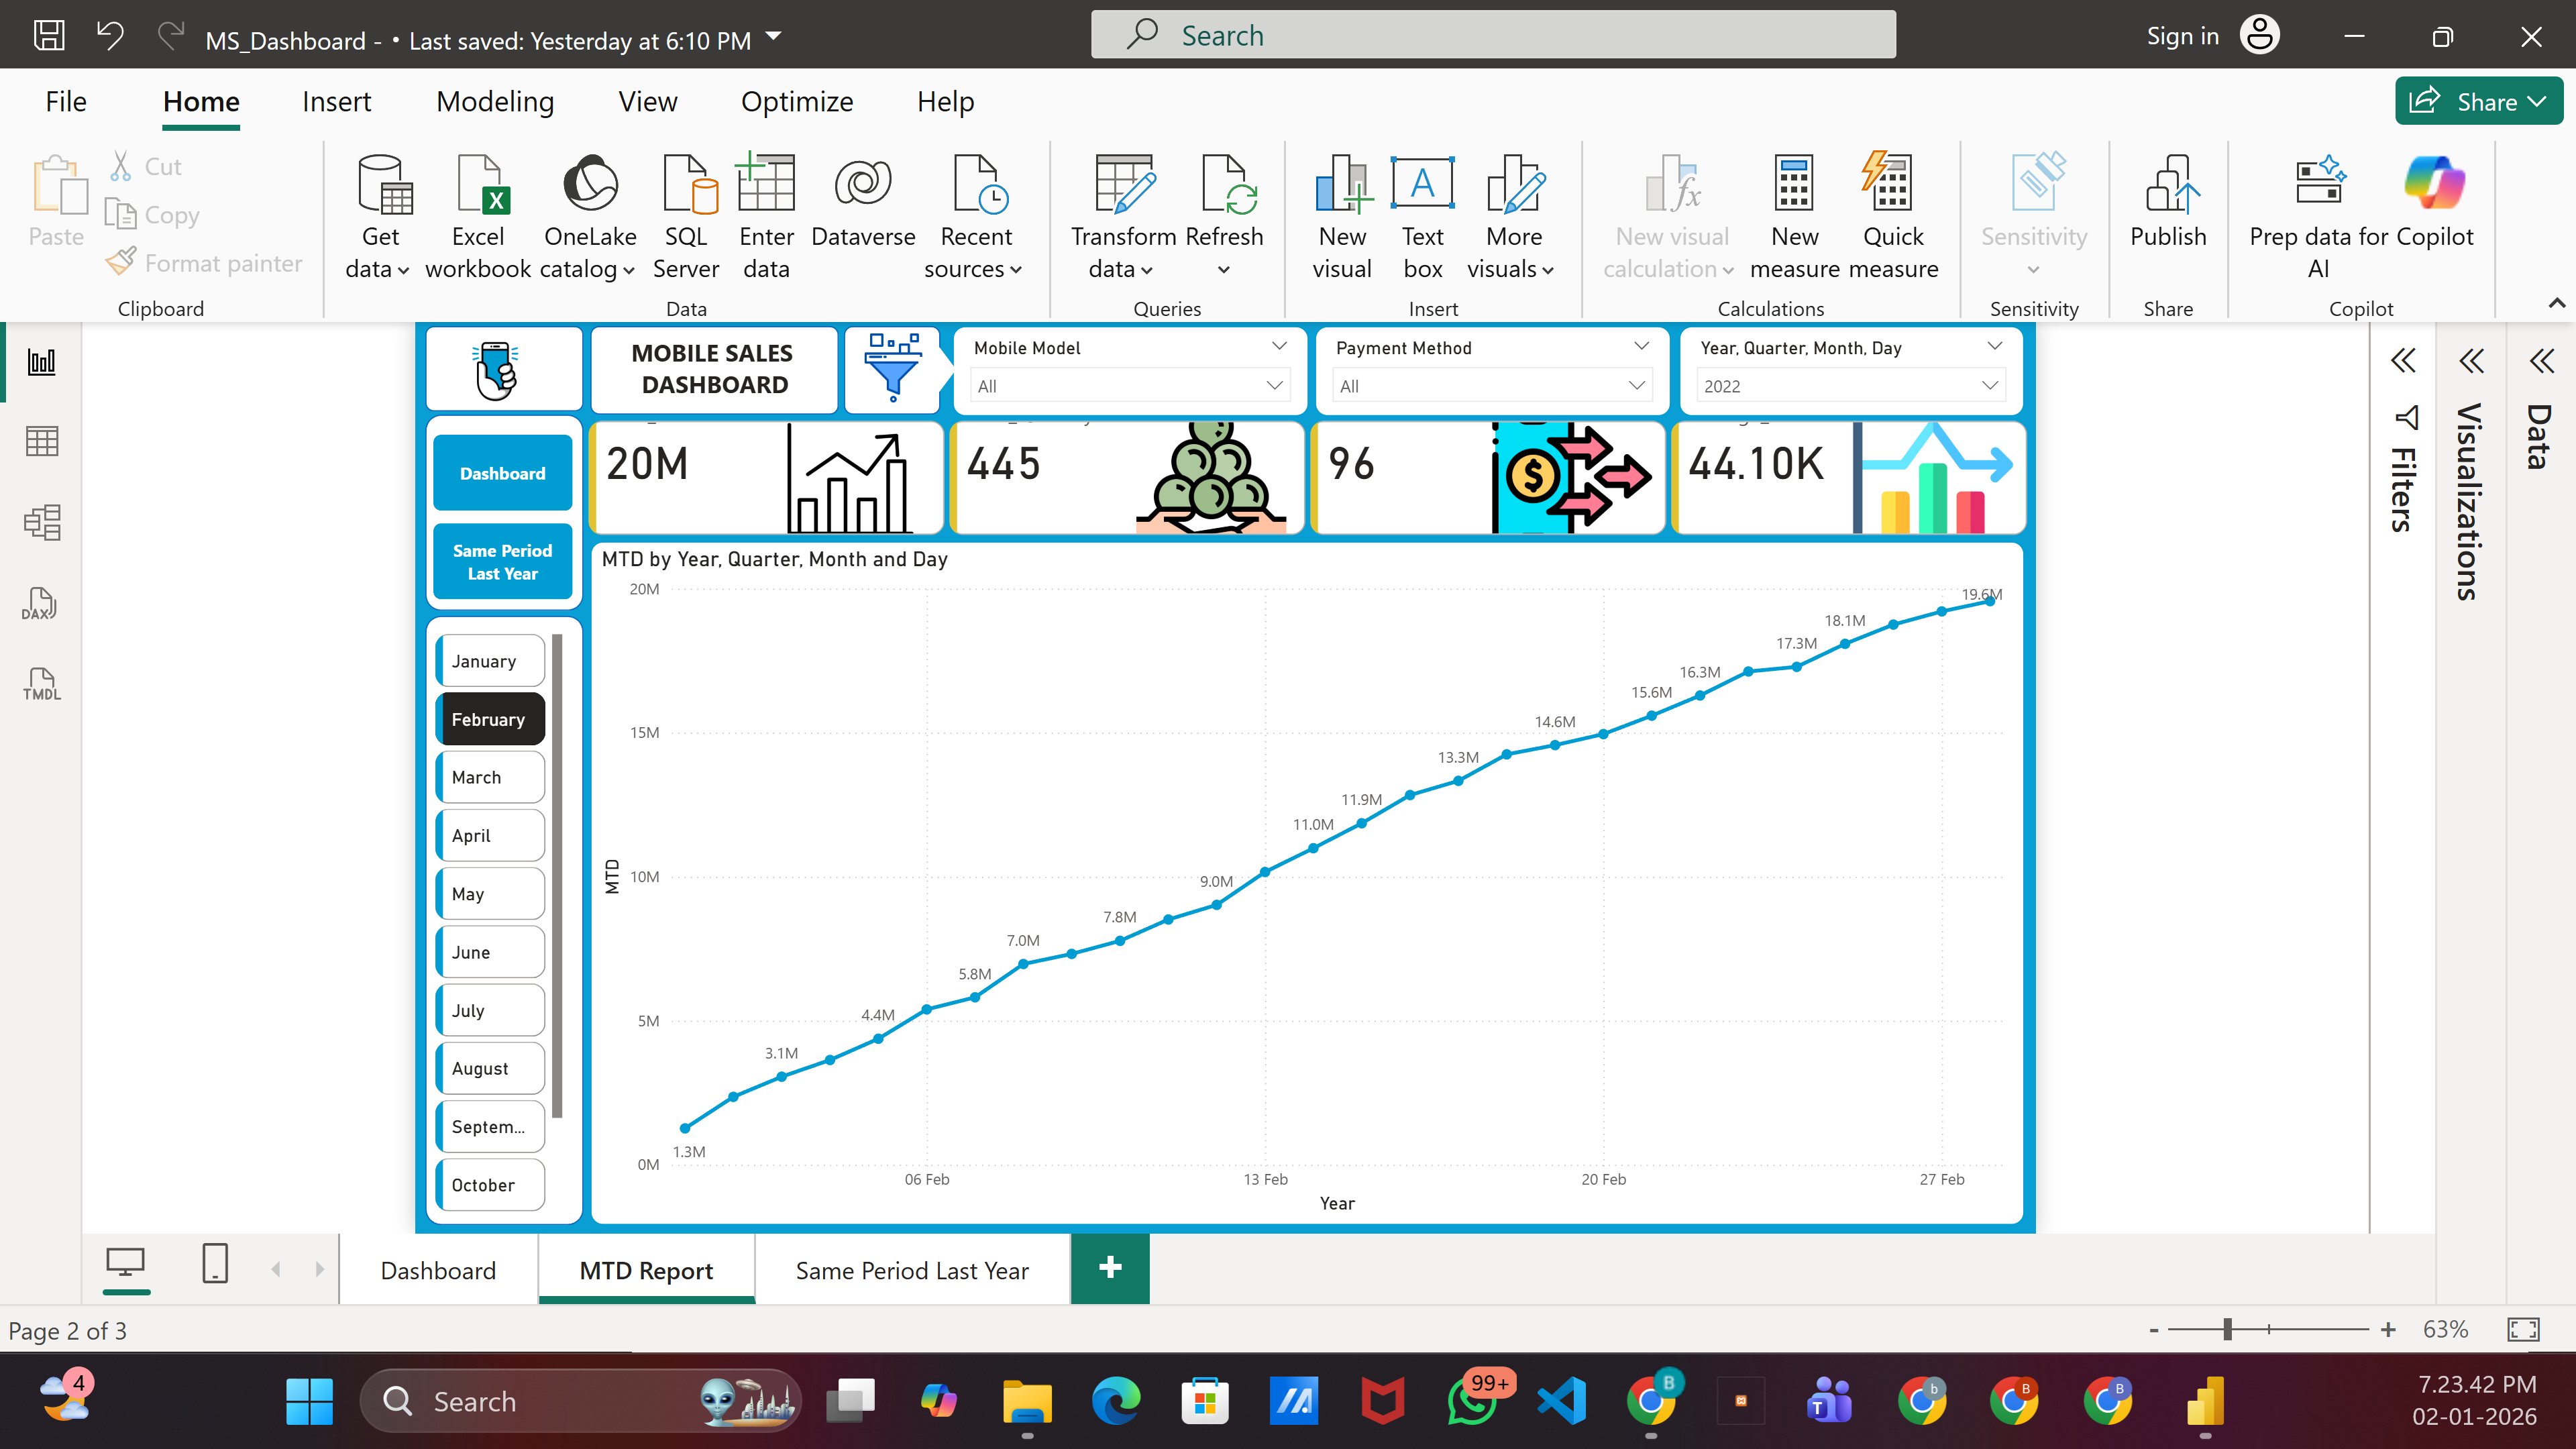

Layout of this report page (visuals, bound fields, positions):
{"tool":"powerbi","page":{"name":"MTD Report","canvas":[1280,720],"ordinal":1},"visuals":[{"type":"shape","box":[7.5,3.8,125,67.5],"z":0},{"type":"image","box":[23.8,3.8,78.8,71.2],"z":1000},{"type":"shape","box":[7.5,73.8,125,155],"z":2000},{"type":"cardVisual","fields":{"Data":["Sales_Data.Total_Sales","Sales_Data.Total_Quantity","Sales_Data.Transactions","Sales_Data.Average_Price"]},"box":[132.5,73.8,1147.5,100],"z":3000},{"type":"slicer","fields":{"Values":["Sales_Data.Mobile Model"]},"box":[423.8,3.8,281.2,71.2],"z":4000},{"type":"slicer","fields":{"Values":["Sales_Data.Payment Method"]},"box":[710,3.8,281.2,71.2],"z":5000},{"type":"slicer","fields":{"Values":["Custom_Calendar.Date.Variation.Date Hierarchy.Year","Custom_Calendar.Date.Variation.Date Hierarchy.Quarter","Custom_Calendar.Date.Variation.Date Hierarchy.Month","Custom_Calendar.Date.Variation.Date Hierarchy.Day"]},"box":[997.5,3.8,272.5,71.2],"z":6000},{"type":"shape","box":[338.8,3.8,76.2,70],"z":7000},{"type":"image","box":[337.5,3.8,81.2,66.2],"z":8000},{"type":"shape","box":[397.5,17.5,30,40],"z":9000},{"type":"shape","box":[137.5,3.8,196.2,70],"z":10000},{"type":"textbox","box":[156.2,6.2,162.5,63.8],"z":11000},{"type":"lineChart","fields":{"Y":["Sales_Data.MTD"],"Category":["Custom_Calendar.Date.Variation.Date Hierarchy.Year","Custom_Calendar.Date.Variation.Date Hierarchy.Quarter","Custom_Calendar.Date.Variation.Date Hierarchy.Month","Custom_Calendar.Date.Variation.Date Hierarchy.Day"]},"box":[137.5,173.8,1132.5,540],"z":12000},{"type":"shape","box":[7.5,232.5,125,481.2],"z":13000},{"type":"advancedSlicerVisual","fields":{"Values":["Custom_Calendar.Date.Variation.Date Hierarchy.Month"]},"box":[11.2,241.2,110,472.5],"z":14000},{"type":"pageNavigator","box":[15,88.8,110,130],"z":15000}]}

Visuals, with their boxes on the page's 1280x720 design canvas (x1, y1, x2, y2). These are canvas units, not pixel positions in the 2576x1449 screenshot, which may show the page scaled, cropped or inside an application window:
shape: 8:4:132:71
image: 24:4:103:75
shape: 8:74:132:229
cardVisual - Sales_Data.Total_Sales x Sales_Data.Total_Quantity: 132:74:1280:174
slicer - Sales_Data.Mobile Model: 424:4:705:75
slicer - Sales_Data.Payment Method: 710:4:991:75
slicer - Custom_Calendar.Date.Variation.Date Hierarchy.Year x Custom_Calendar.Date.Variation.Date Hierarchy.Quarter: 998:4:1270:75
shape: 339:4:415:74
image: 338:4:419:70
shape: 398:18:428:58
shape: 138:4:334:74
textbox: 156:6:319:70
lineChart - Sales_Data.MTD x Custom_Calendar.Date.Variation.Date Hierarchy.Year: 138:174:1270:714
shape: 8:232:132:714
advancedSlicerVisual - Custom_Calendar.Date.Variation.Date Hierarchy.Month: 11:241:121:714
pageNavigator: 15:89:125:219
